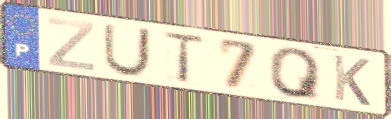7: (215, 36, 264, 91)
K: (330, 52, 373, 108)
Q: (267, 47, 326, 102)
T: (160, 30, 207, 86)
U: (101, 22, 154, 79)
Z: (45, 16, 96, 73)
